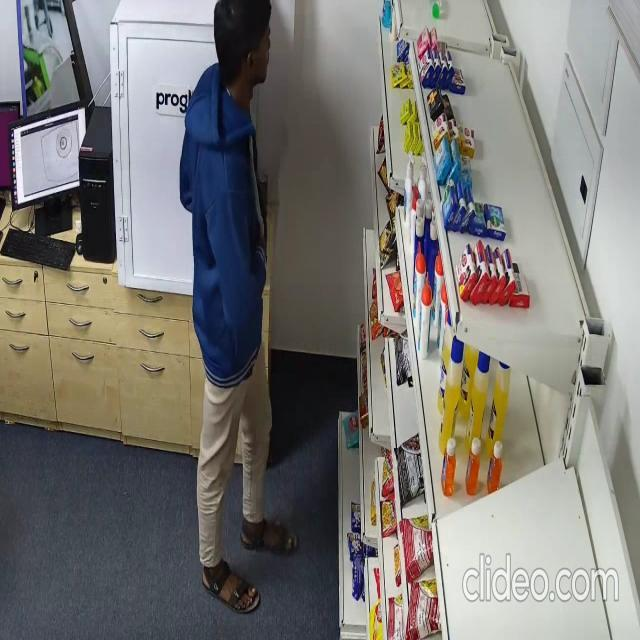Shoplifting: (171, 0, 283, 580)
